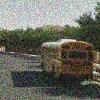buses: (37, 39, 98, 83)
